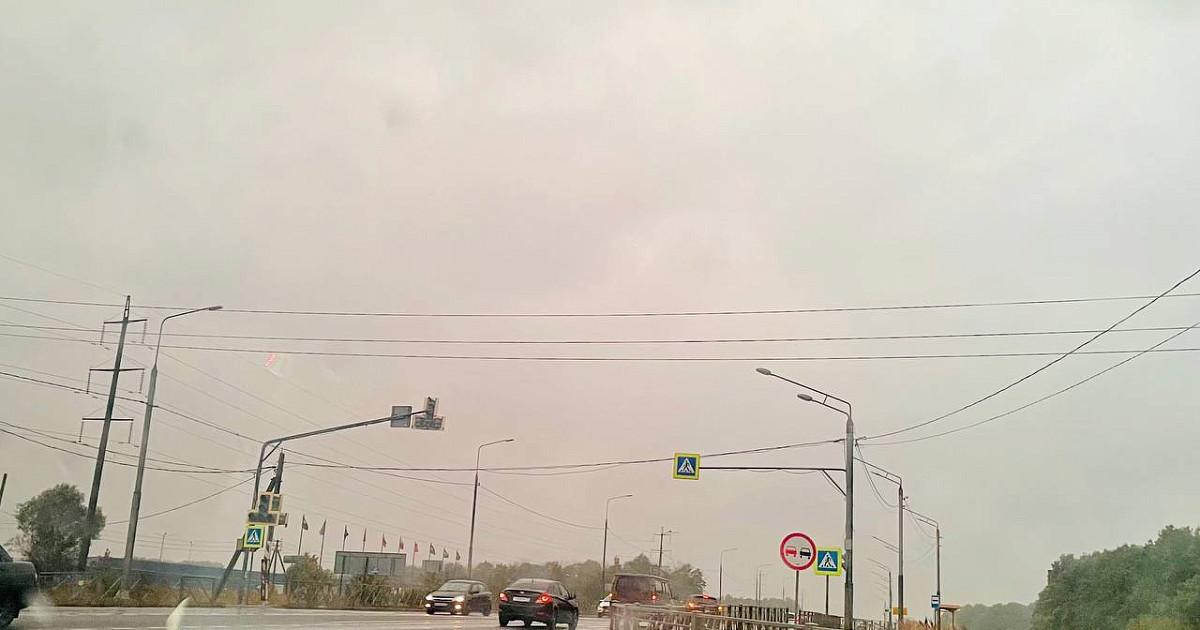off traffic light: (413, 398, 443, 429)
road_sign: (780, 533, 816, 570), (247, 494, 278, 524), (814, 548, 842, 575), (673, 453, 699, 478), (244, 526, 264, 548)
